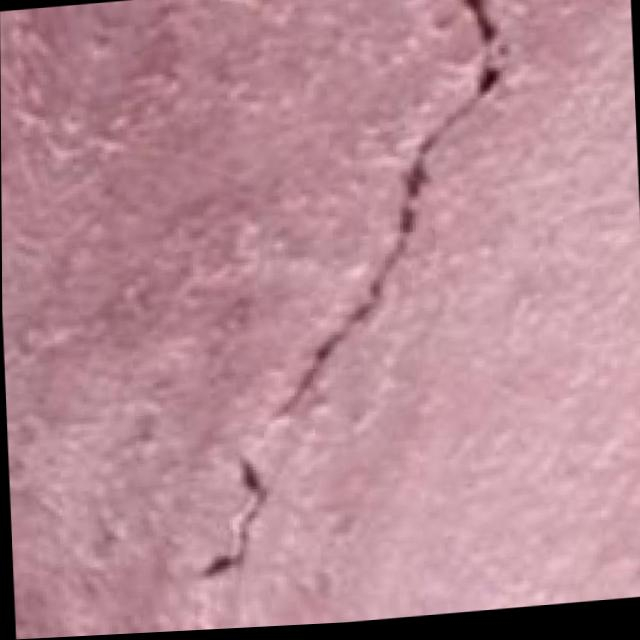Crack: (172, 0, 536, 594)
